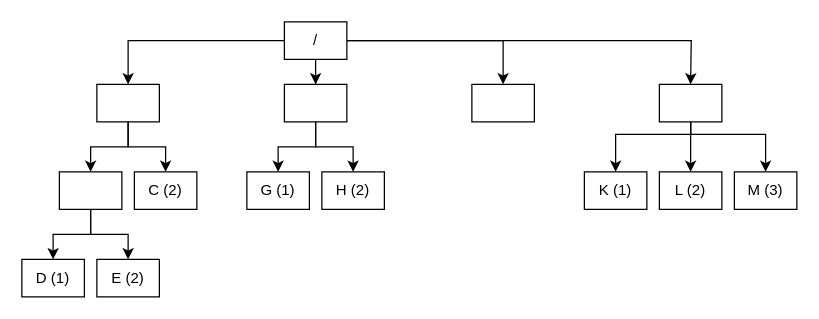
The diagram is 819 pixels wide and 319 high, and some of its shapes have lost their labels. Here are the shapes that lost their labels. From the top down, the box of each, then its label:
(96, 83, 159, 122): A (1)
(283, 83, 347, 122): F (2)
(471, 83, 534, 122): I (3)
(658, 83, 722, 122): J(4)
(58, 171, 122, 209): B (1)
